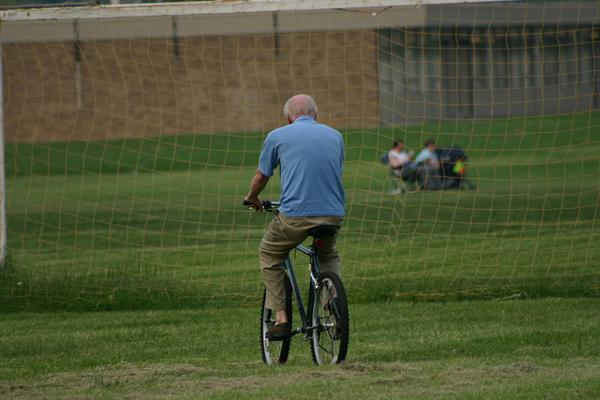person: (244, 95, 349, 344)
